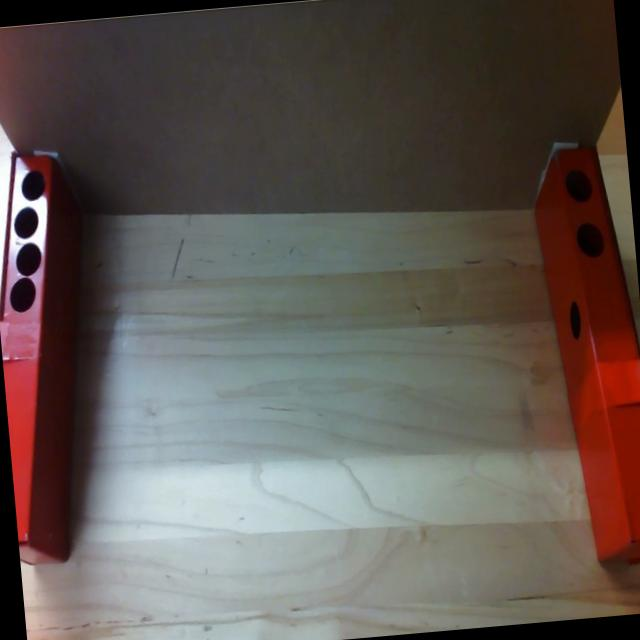Hole: (576, 220, 604, 258), (14, 242, 43, 277), (8, 277, 36, 313), (12, 206, 40, 240), (564, 167, 590, 201), (19, 168, 46, 200), (568, 299, 582, 341)
